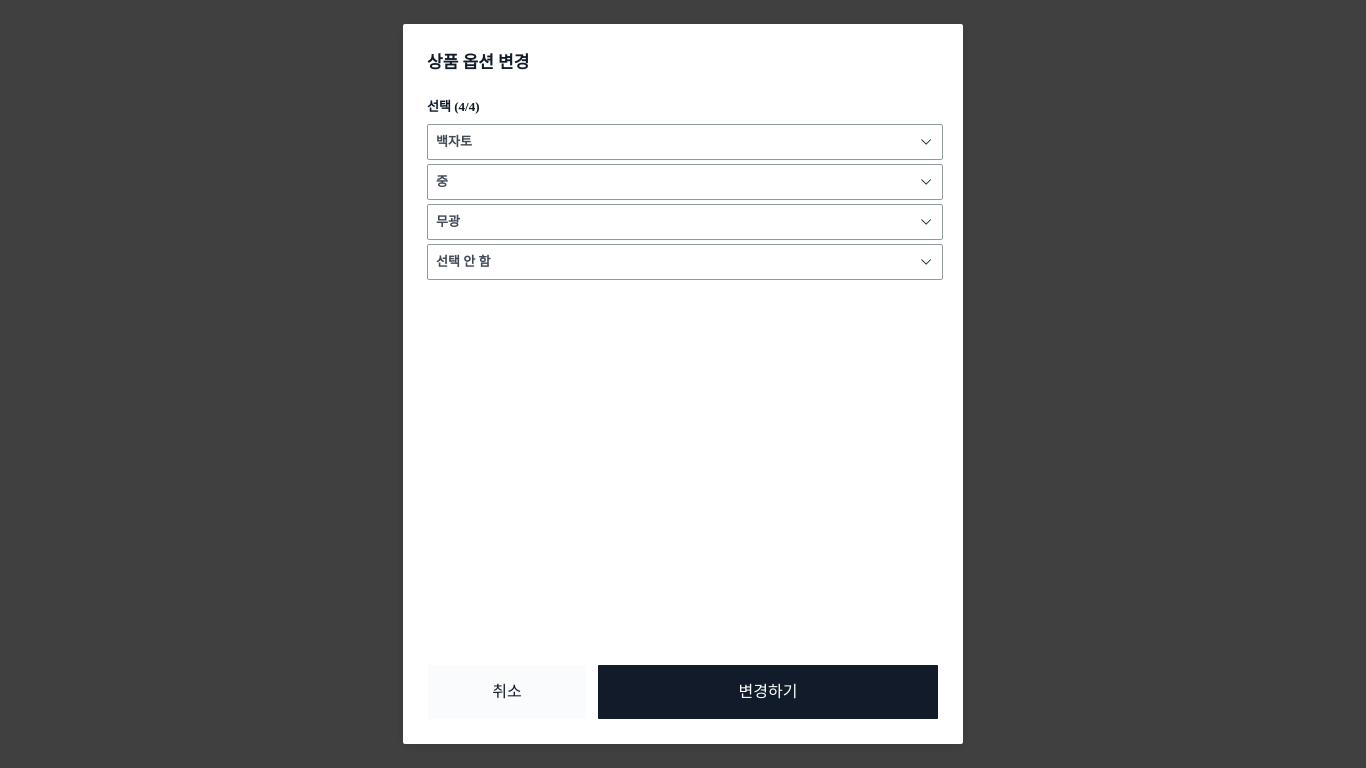
it: complete valid reselection saves immediately but incompatible predecessor keeps dialog
Press Arrowdown
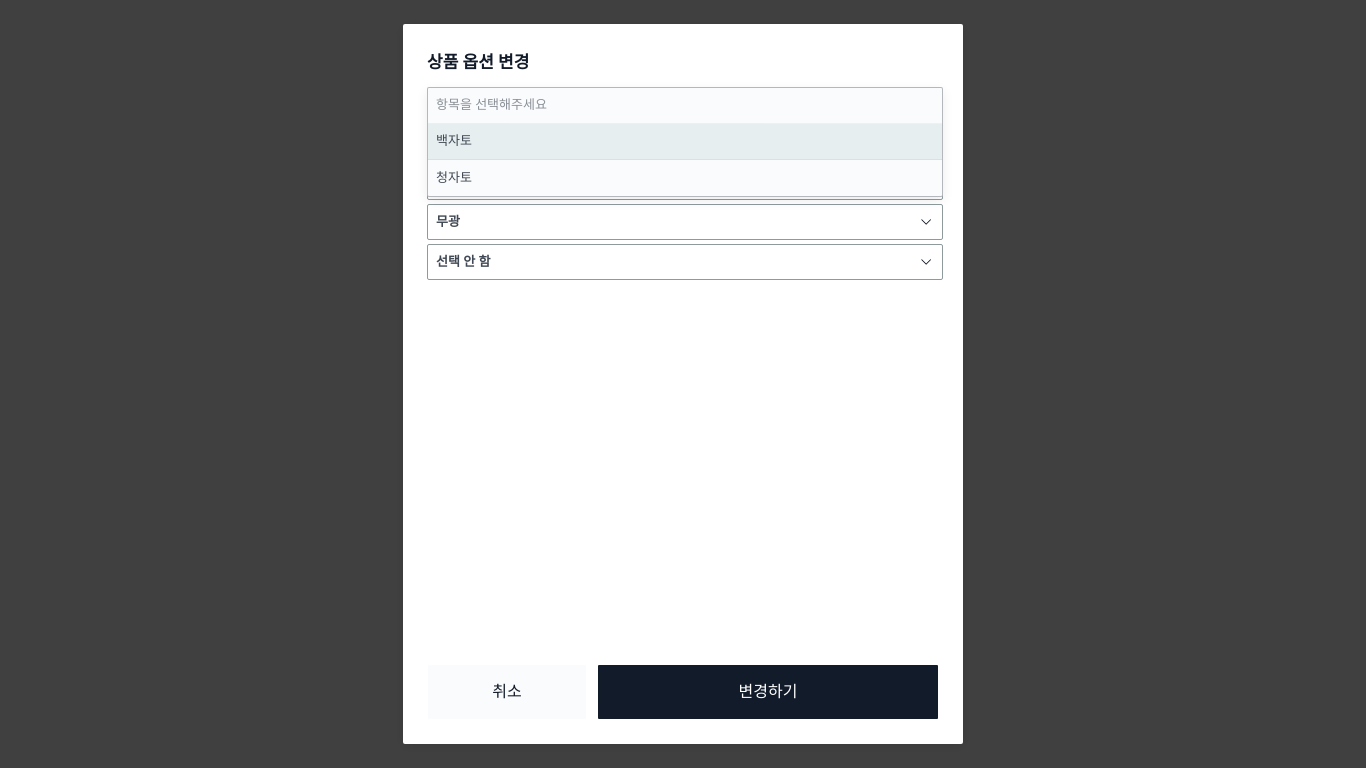
Click the option "청자토".
click(454, 177)  # box [436,170,472,185]
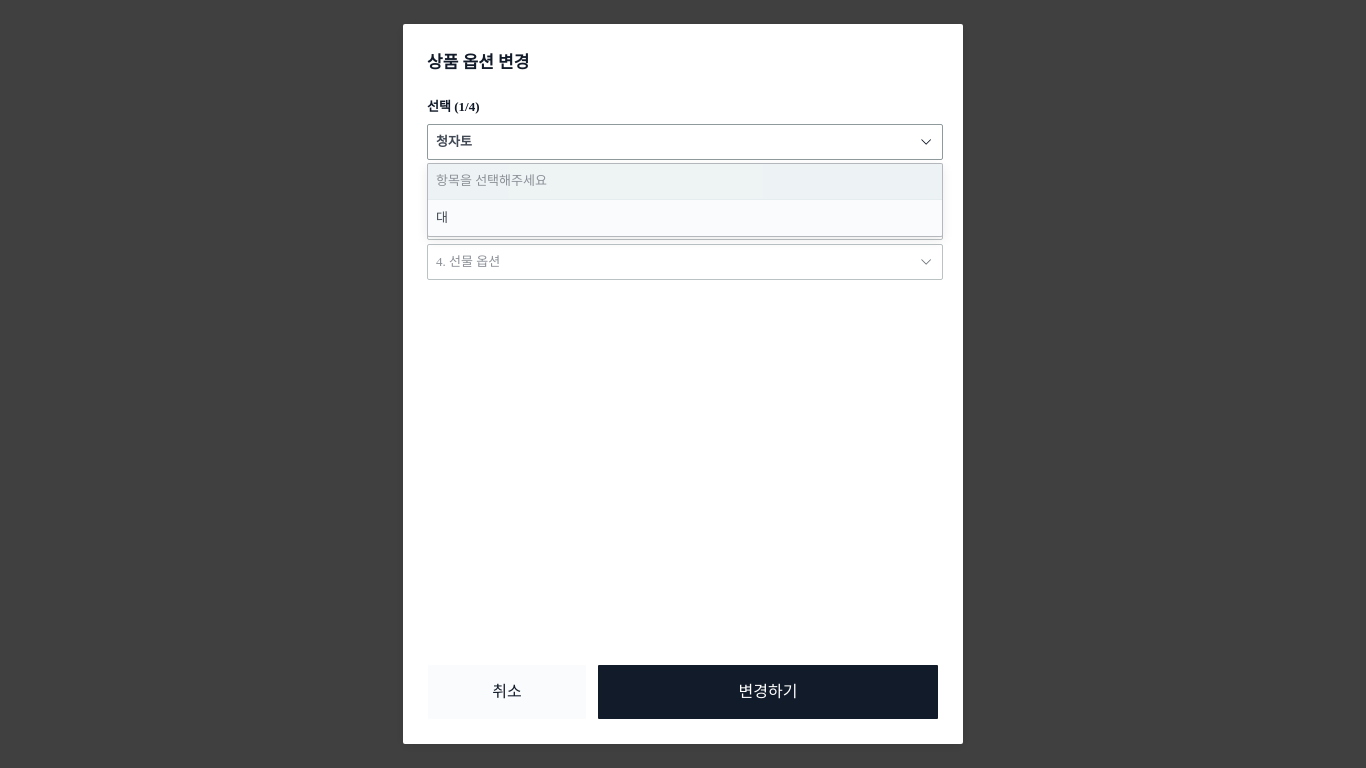
Now the text "선택 (1/4)" is shown, box [427,99,480,114]
